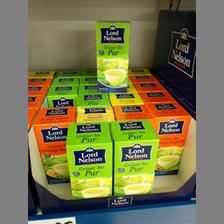Tee: (63, 120, 113, 196), (110, 118, 158, 196), (32, 106, 74, 182), (146, 103, 190, 175), (94, 20, 130, 92)
